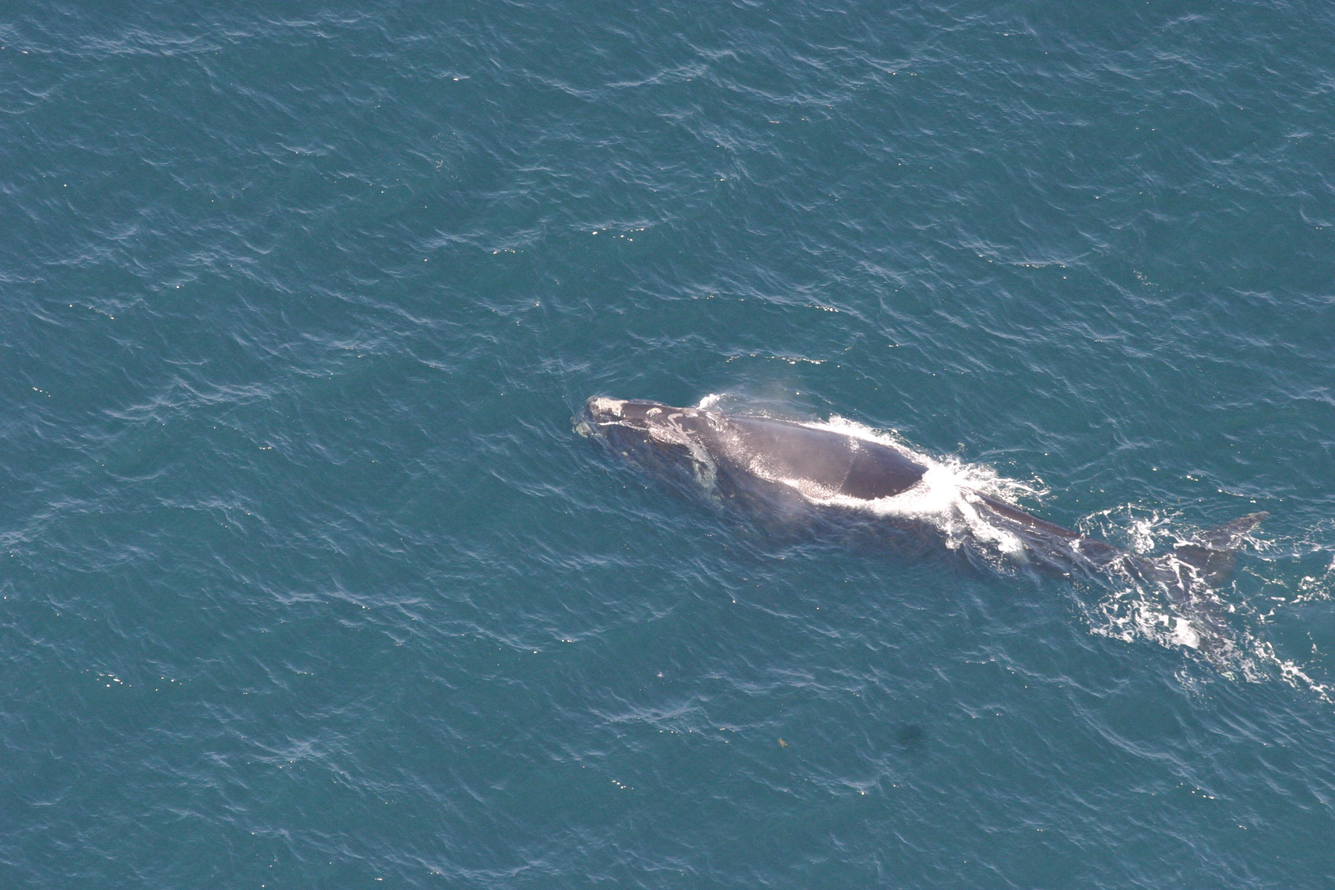whale: (561, 382, 1275, 687)
